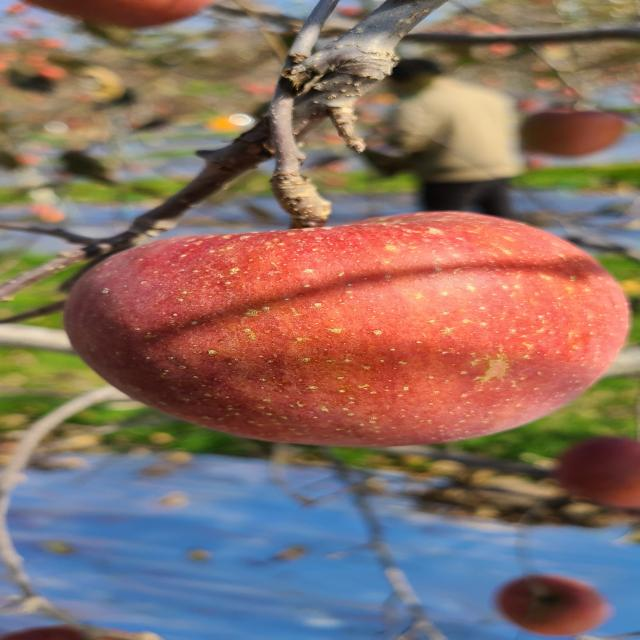fresh: (44, 205, 640, 459)
